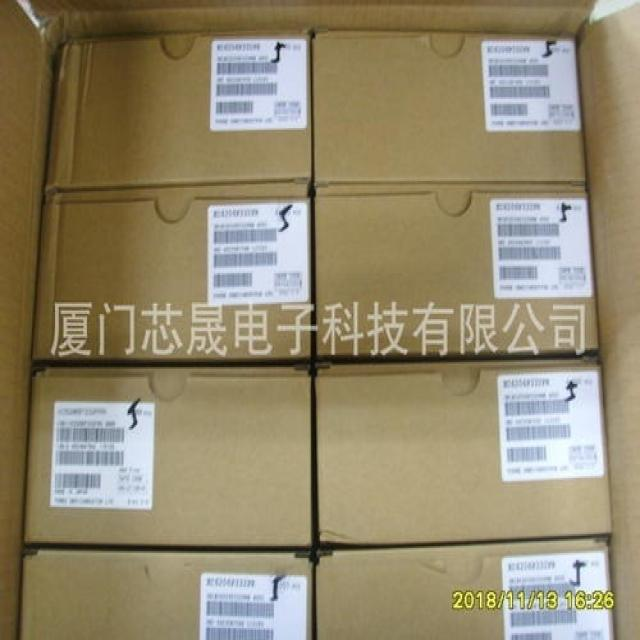box: (1, 0, 640, 640), (314, 355, 613, 548), (23, 364, 312, 548), (32, 183, 311, 364), (315, 183, 599, 358), (44, 27, 312, 193), (314, 29, 586, 186), (315, 536, 616, 640), (18, 548, 314, 640)
